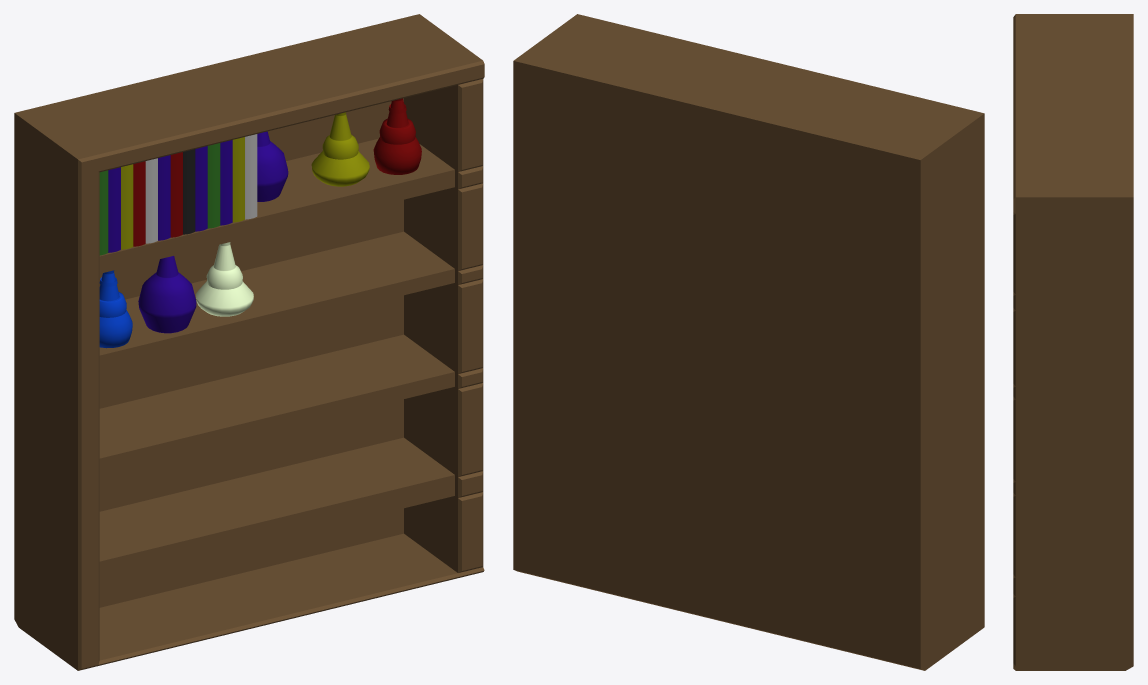
File: Single_shelf_export_new.fbx
3 renders of one model, left to right at view 1: azimuth 30°, elevation 25°; view 2: azimuth 150°, elevation 25°; view 3: azimuth 270°, elevation 25°, orthographic. The views are drawn at different scales.
Visible parts, largest first — view 1: Single_frame, Books, Single_shelf_Bottle_1, Single_shelf_Coark2, Single_shelf_Bottle_2, Single_shelf_Bottle_3, Coark5, Bottle_6; view 2: Single_frame; view 3: Single_frame.
Boxes of the visible parts, <box> form: Single_frame: <box>14,14,484,670</box>; Books: <box>99,134,257,255</box>; Single_shelf_Bottle_1: <box>138,256,196,333</box>; Single_shelf_Coark2: <box>311,112,369,186</box>; Single_shelf_Bottle_2: <box>195,242,253,316</box>; Single_shelf_Bottle_3: <box>373,98,421,174</box>; Coark5: <box>99,270,132,348</box>; Bottle_6: <box>257,131,288,201</box>; Single_frame: <box>513,14,984,670</box>; Single_frame: <box>1013,14,1133,670</box>.
Size of the model in its own units: 4.14 by 4.99 by 1.15.
